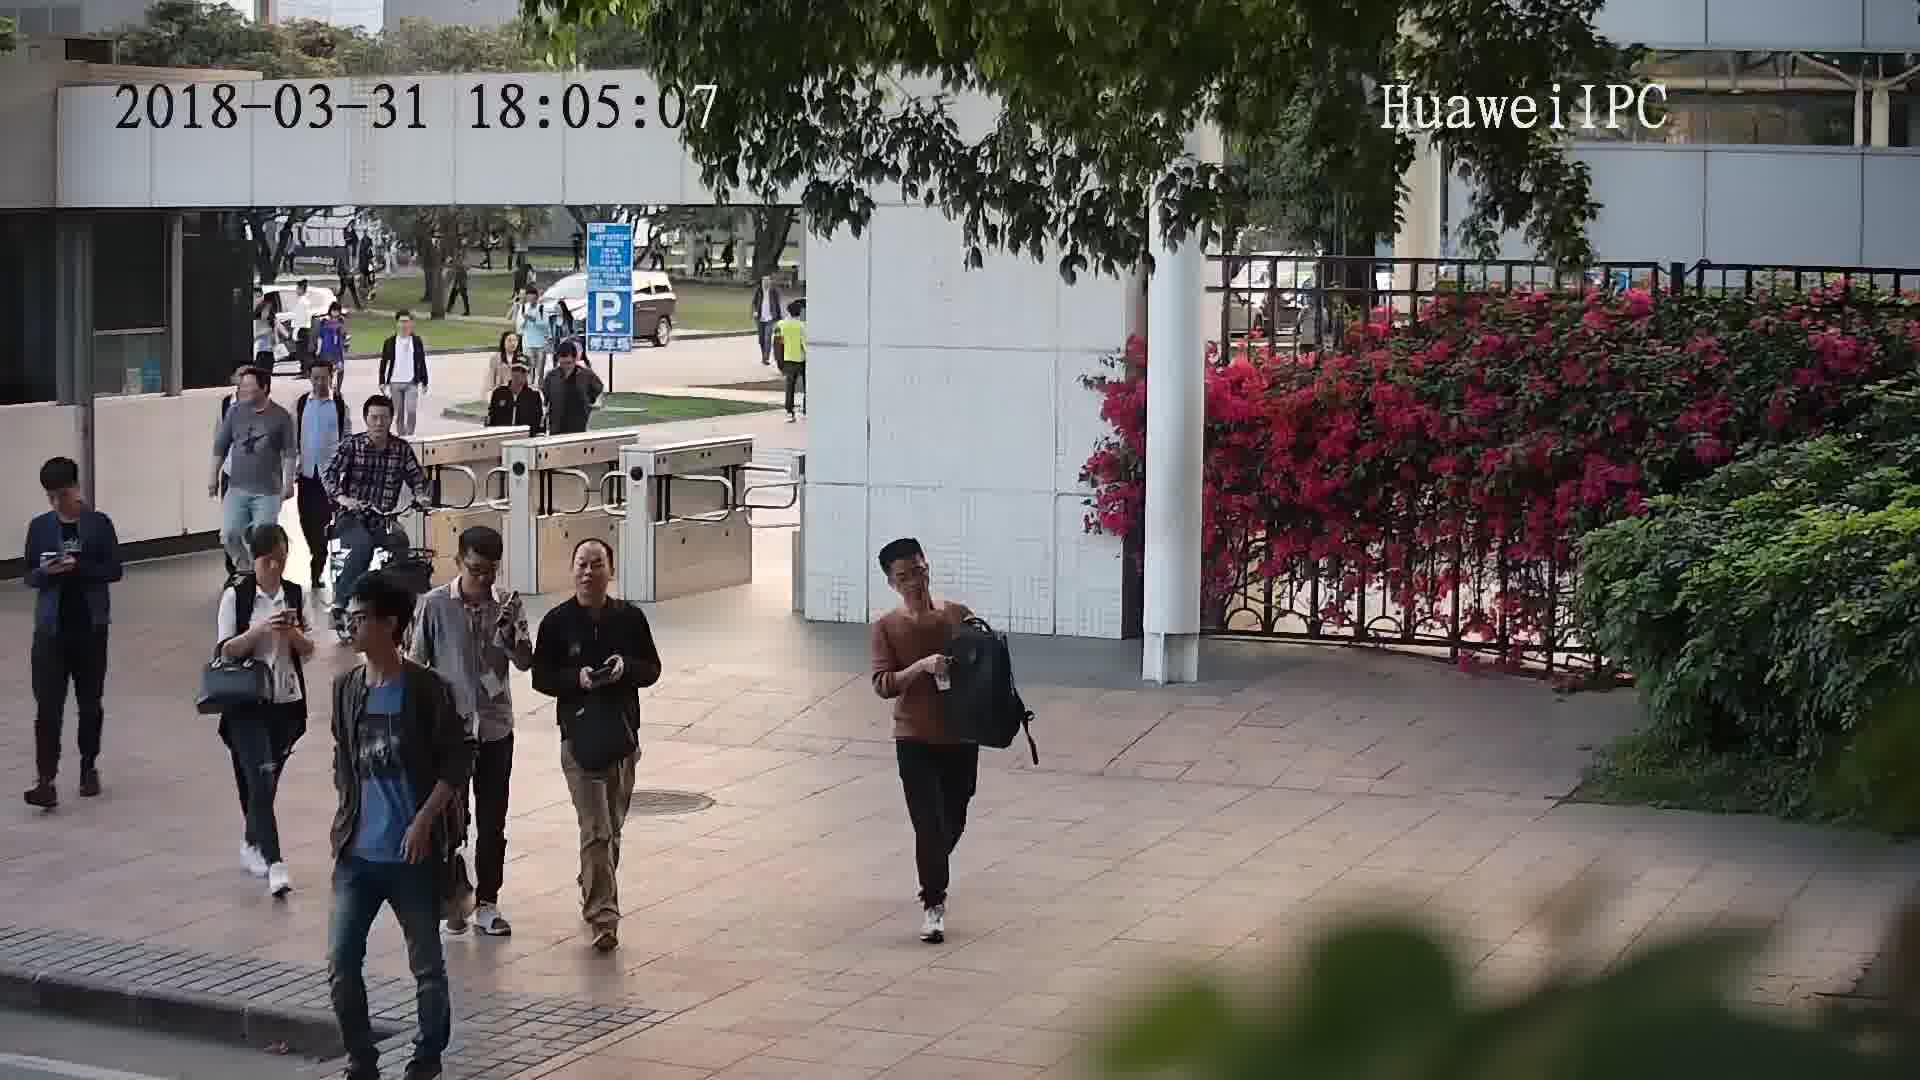face: (334, 592, 397, 655), (889, 553, 933, 603), (455, 551, 499, 600), (573, 546, 612, 601), (248, 541, 289, 590), (359, 403, 395, 438)
person: (333, 573, 448, 712), (871, 535, 973, 641), (541, 537, 646, 637), (422, 526, 520, 622), (27, 452, 118, 551), (216, 518, 305, 613), (341, 392, 418, 462), (224, 361, 293, 421), (298, 355, 353, 416), (544, 336, 597, 386), (496, 358, 542, 409), (384, 308, 428, 351), (488, 327, 528, 369), (545, 296, 581, 334), (518, 287, 554, 324), (249, 300, 283, 334), (321, 299, 352, 335), (286, 279, 317, 315), (777, 301, 808, 334), (749, 273, 783, 300)
